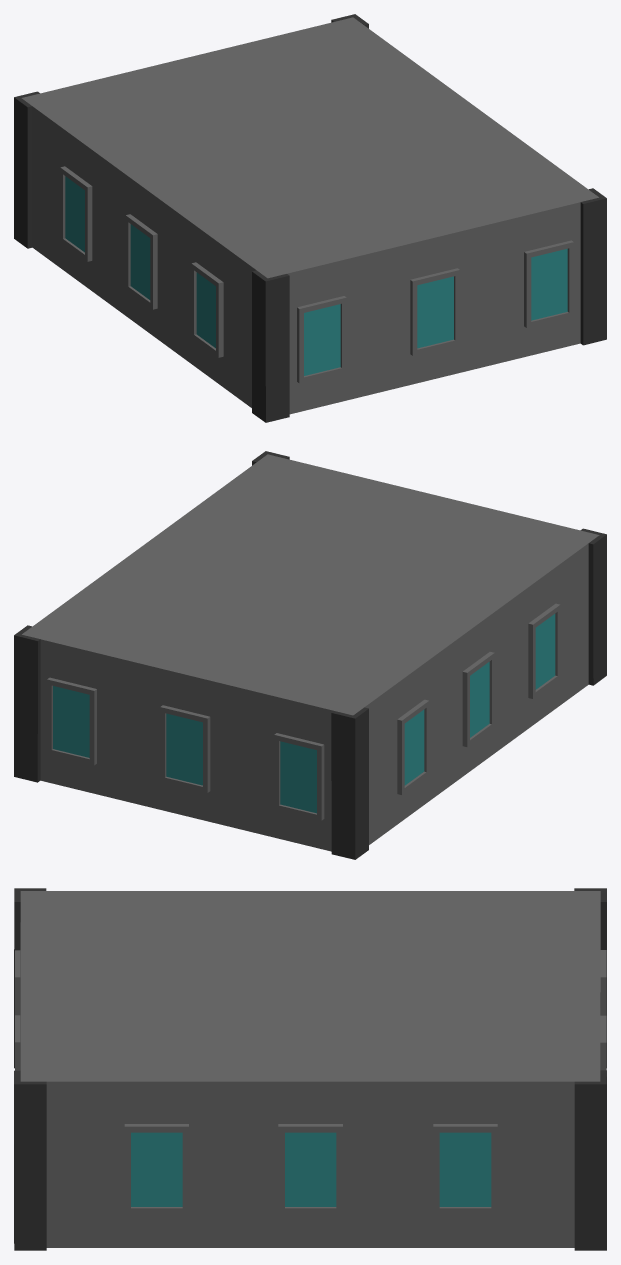
Rendered from mid.obj.
3 renders of one model, top to bottom at view 1: azimuth 30°, elevation 25°; view 2: azimuth 150°, elevation 25°; view 3: azimuth 270°, elevation 25°, orthographic. The views are drawn at different scales.
Parts seen in each view (by area): view 1: Cube.007_Cube.001; view 2: Cube.007_Cube.001; view 3: Cube.007_Cube.001.
Part boxes in pixels (<box>): Cube.007_Cube.001: <box>14,14,606,422</box>; Cube.007_Cube.001: <box>14,451,606,859</box>; Cube.007_Cube.001: <box>14,888,606,1250</box>.
Bounding box in the file's own units: 8.64 × 3.42 × 11.04.
